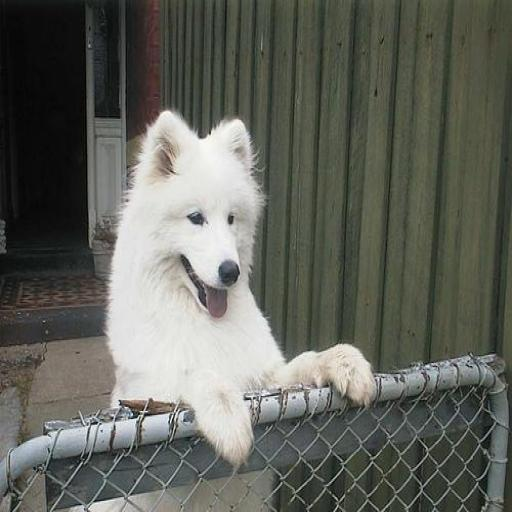dog_face: (145, 111, 253, 319)
